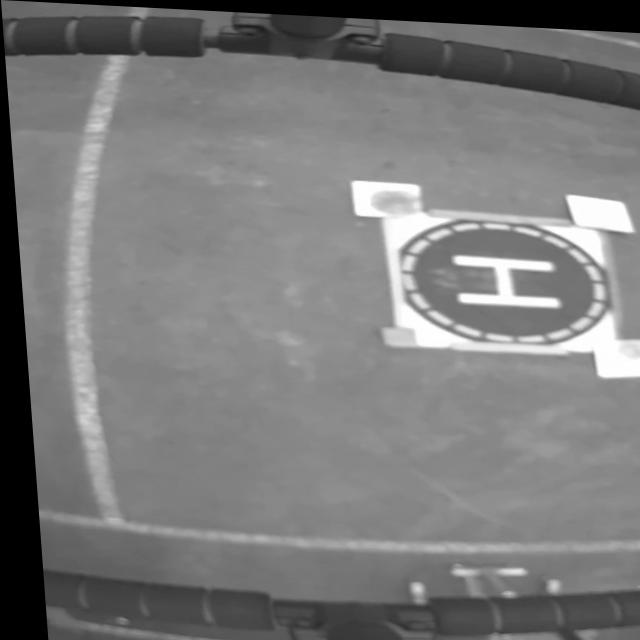Helipad: (448, 249, 556, 303)
